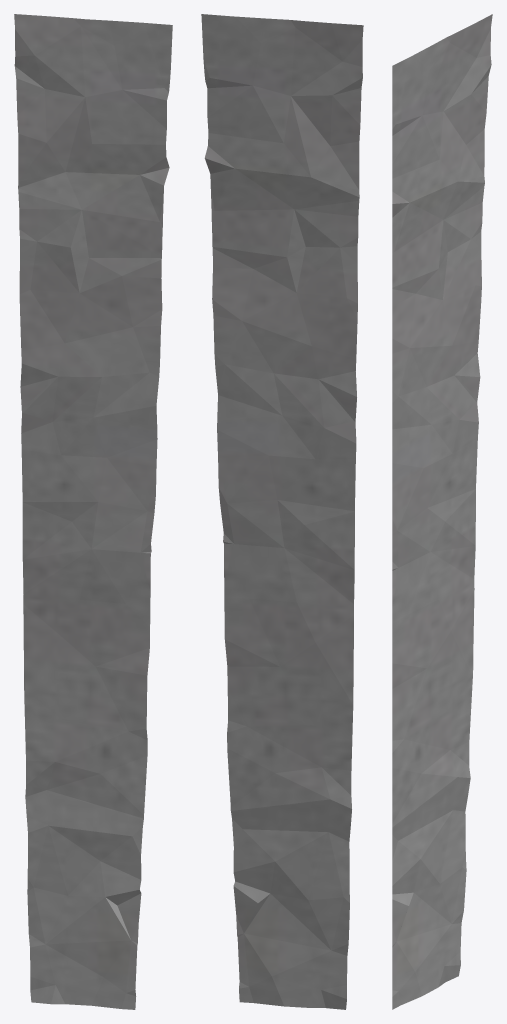
The picture shows the model from 3 angles, left to right: view 1: azimuth 30°, elevation 25°; view 2: azimuth 210°, elevation 25°; view 3: azimuth 270°, elevation 25°; orthographic projection. The views are drawn at different scales.
Size of the model in its own units: 0.0967 by 0.8374 by 0.0793.
Materials: 1 (1 with a texture image).
